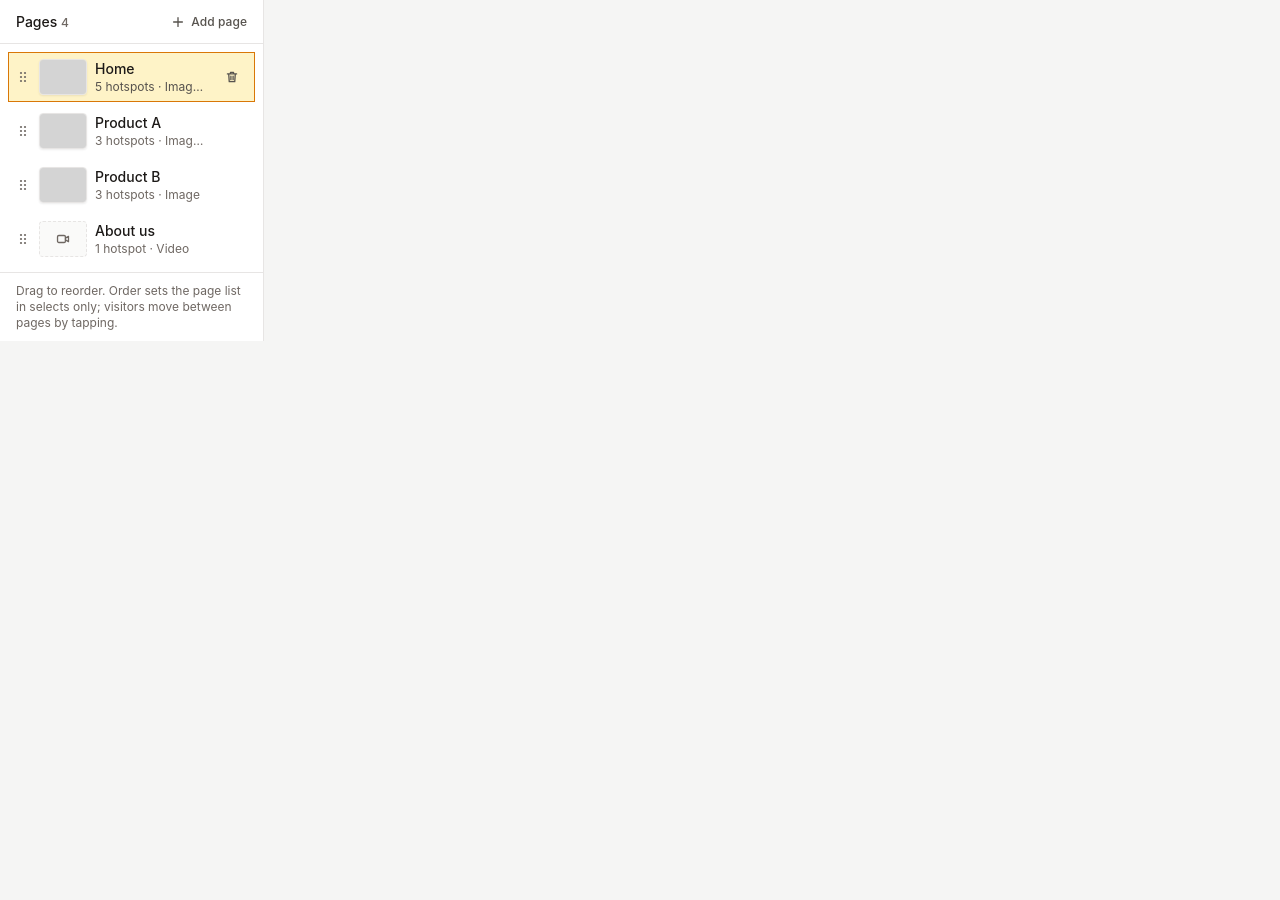
PageList (spec PG-1) › deleting › deletes on confirm, and the selection moves to the first page
Click the text "Product B": (128, 176) [95,168,160,185]
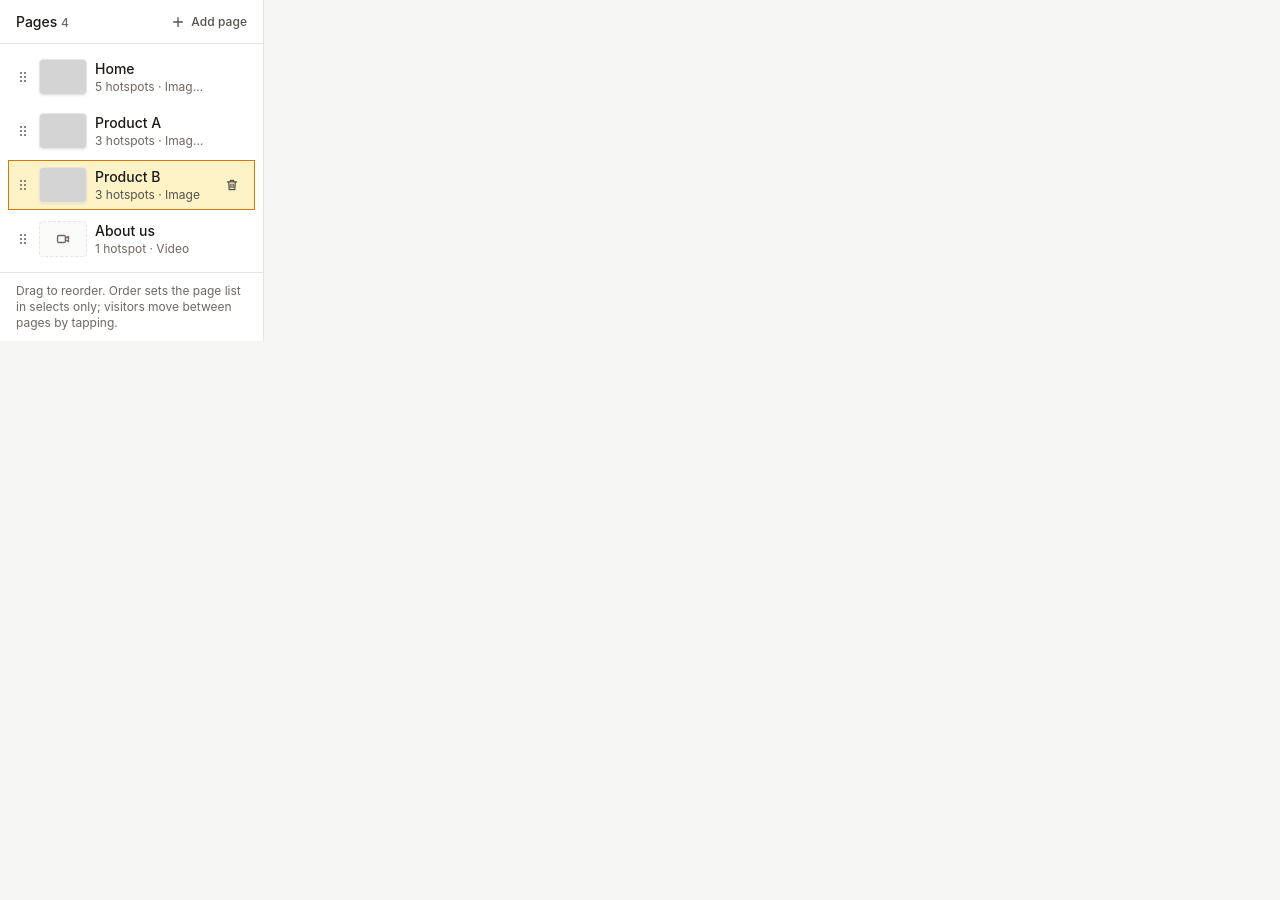
Click the button named "Delete page Product B": (232, 185) [218,171,246,199]
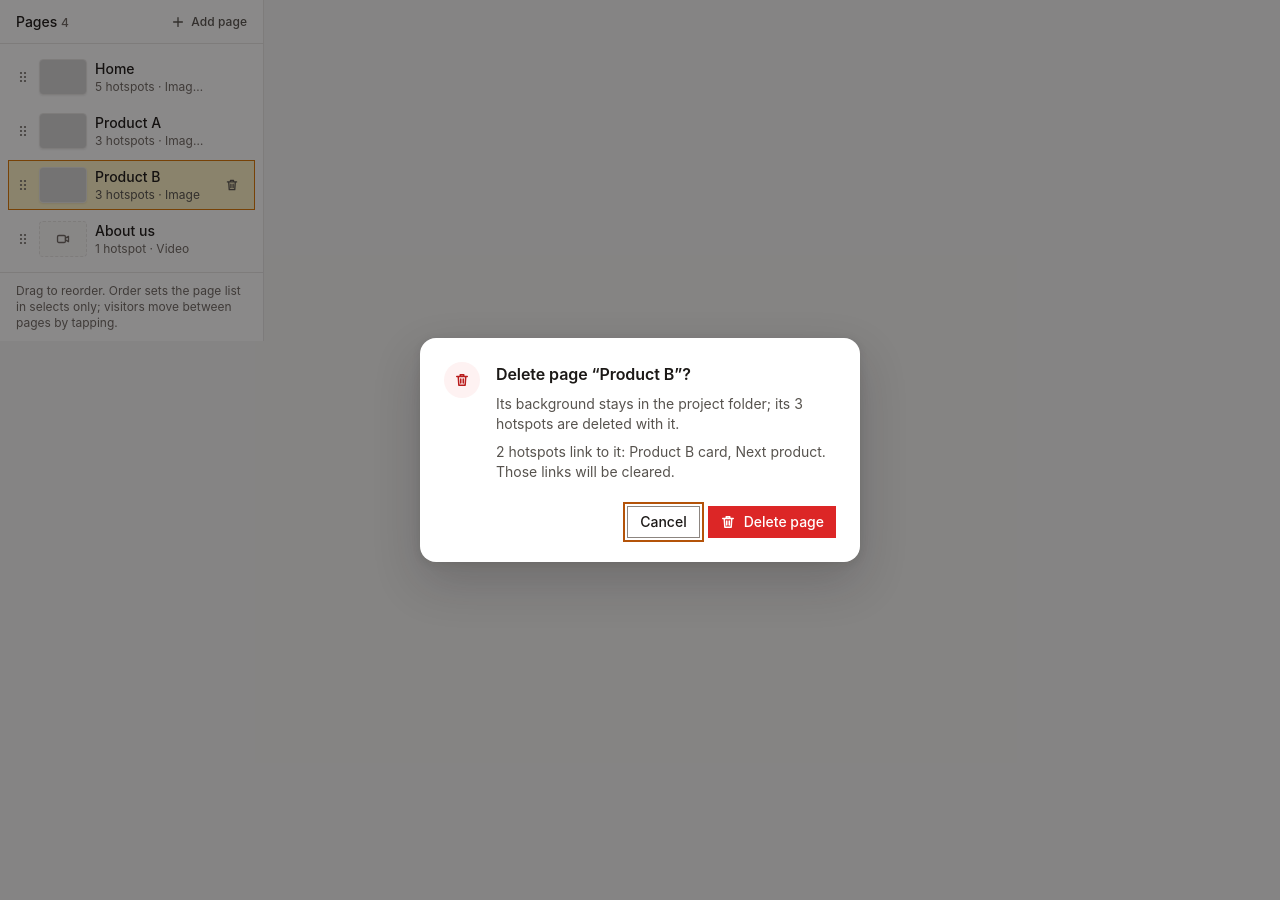
Click the button "Delete page": (772, 522) [708,506,836,538]
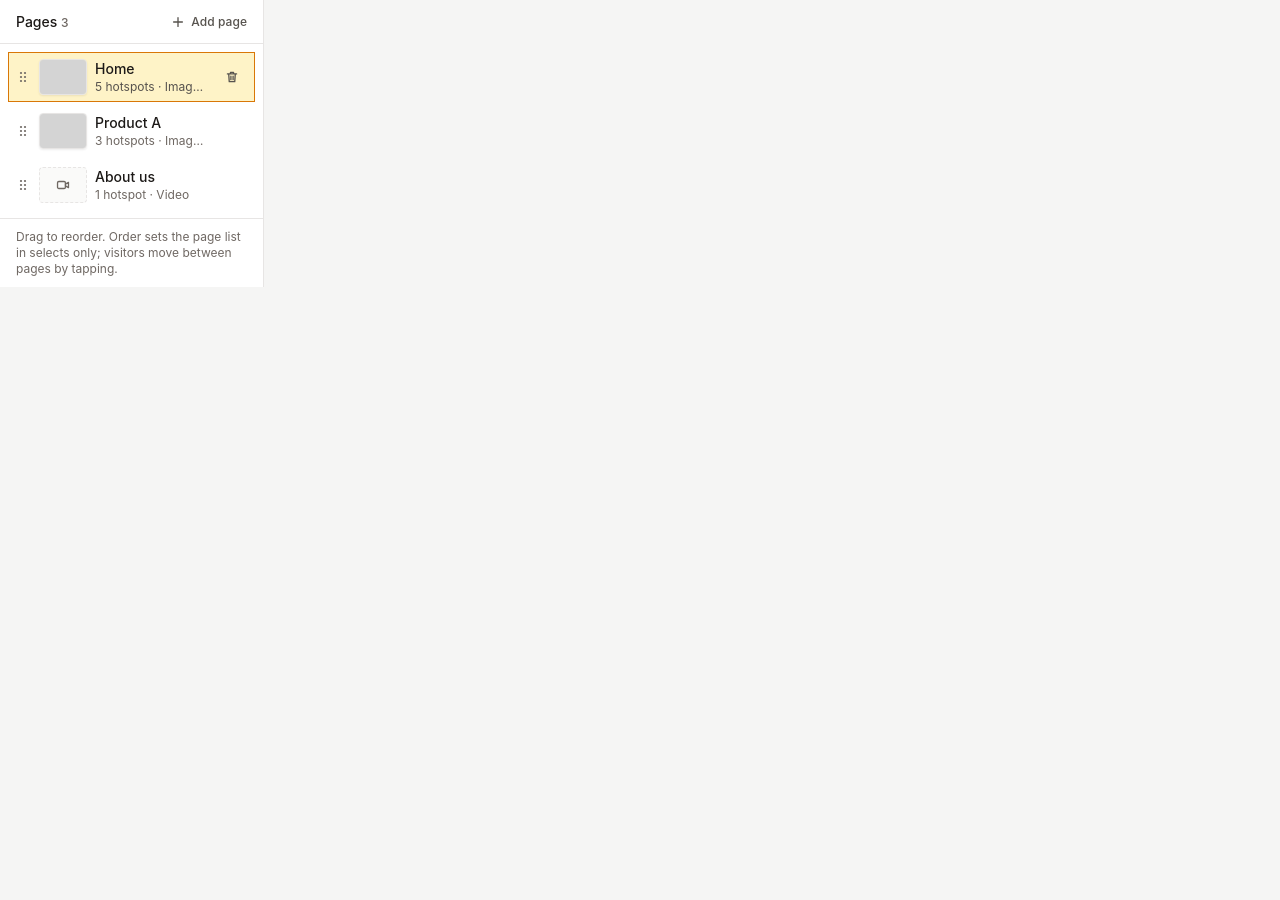
Now the dialog is gone
